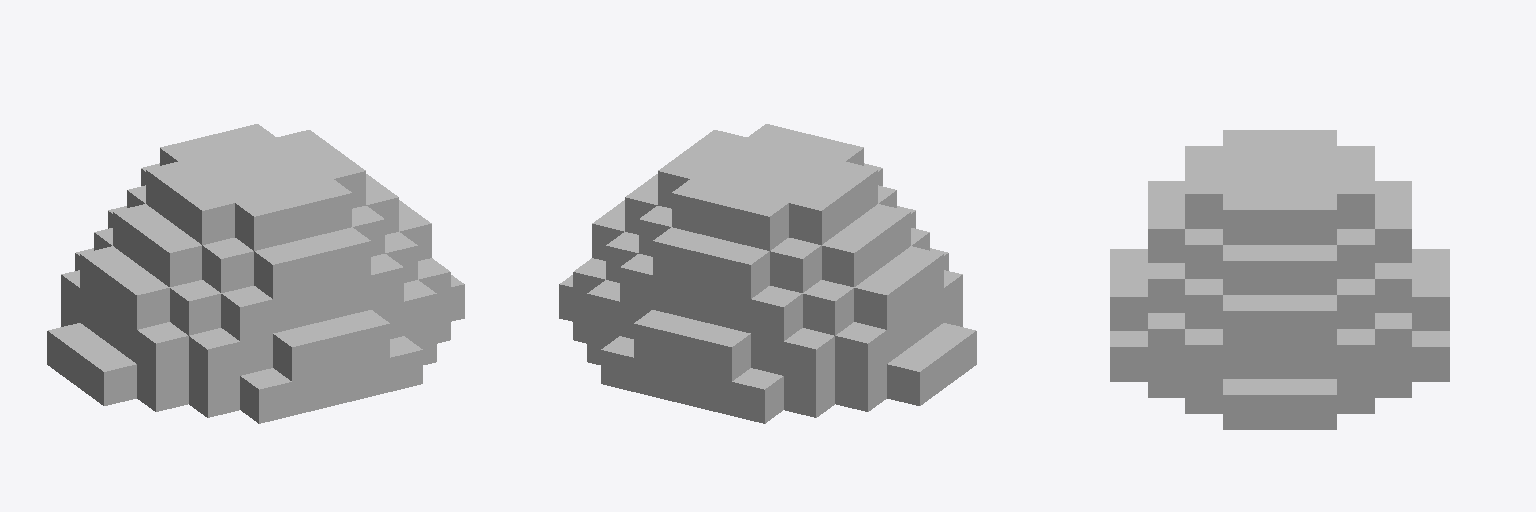
Rendered from rocks.obj.
The picture shows the model from 3 angles: view 1: azimuth 30°, elevation 25°; view 2: azimuth 150°, elevation 25°; view 3: azimuth 270°, elevation 25°; orthographic projection.
Visible parts, largest first — view 1: object 1; view 2: object 1; view 3: object 1.
Boxes of the visible parts, box(x1,y1,x2,y2) form: object 1: box(47, 124, 464, 423); object 1: box(559, 124, 976, 423); object 1: box(1110, 130, 1449, 429).
Size of the model in its own units: 1.1 by 0.5 by 0.9.